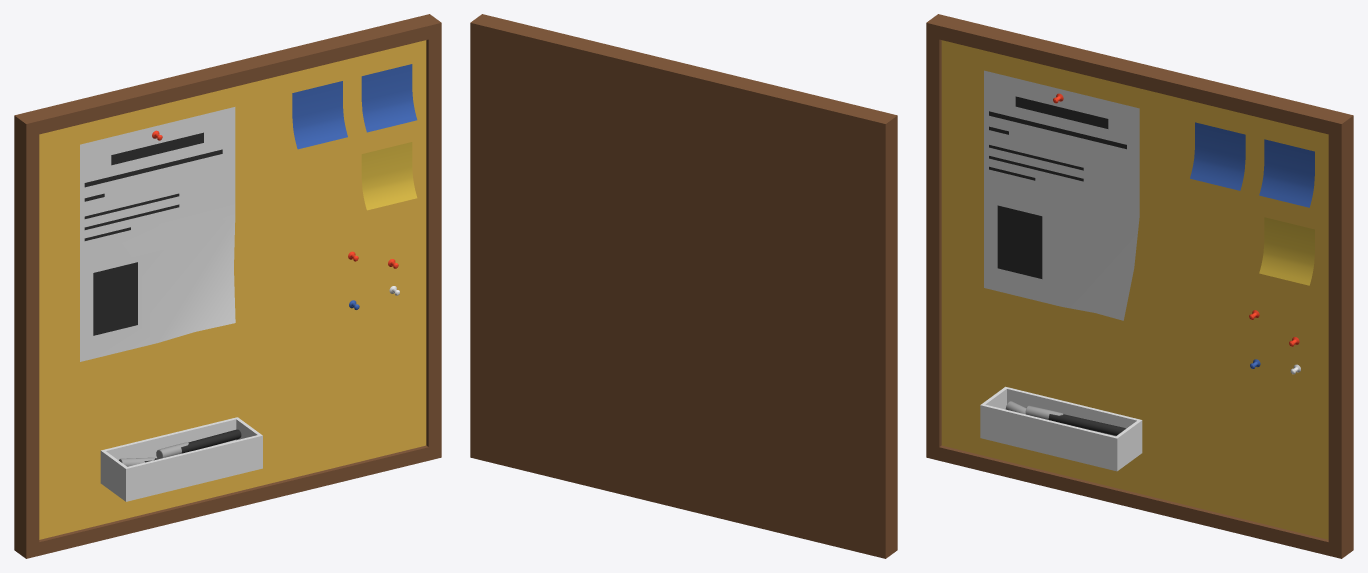
The model's file is Board.fbx.
3 renders of one model, left to right at view 1: azimuth 30°, elevation 25°; view 2: azimuth 150°, elevation 25°; view 3: azimuth 330°, elevation 25°, orthographic.
Visible parts, largest first — view 1: Board; view 2: Board; view 3: Board.
Part boxes in pixels (x1,y1,x2,y2): Board: (14,14,441,558); Board: (470,14,897,558); Board: (926,14,1353,558).
Size of the model in its own units: 58.19 by 400 by 400.
